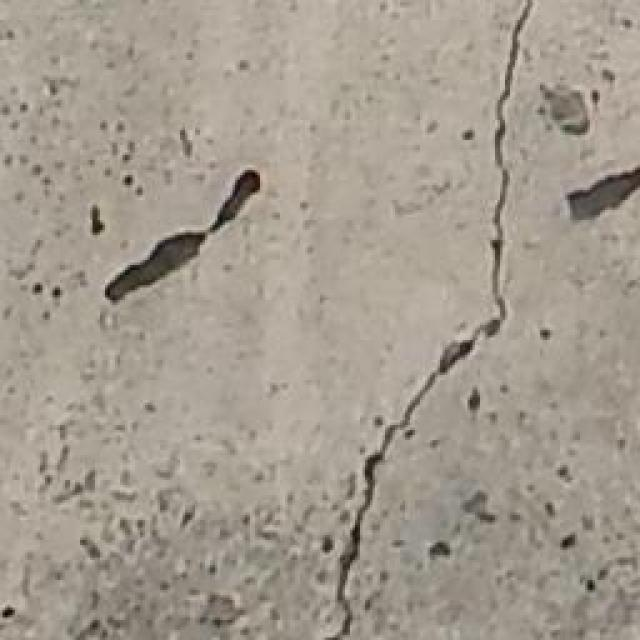concrete-crack: (322, 0, 535, 640), (102, 170, 260, 308), (570, 165, 640, 222)
